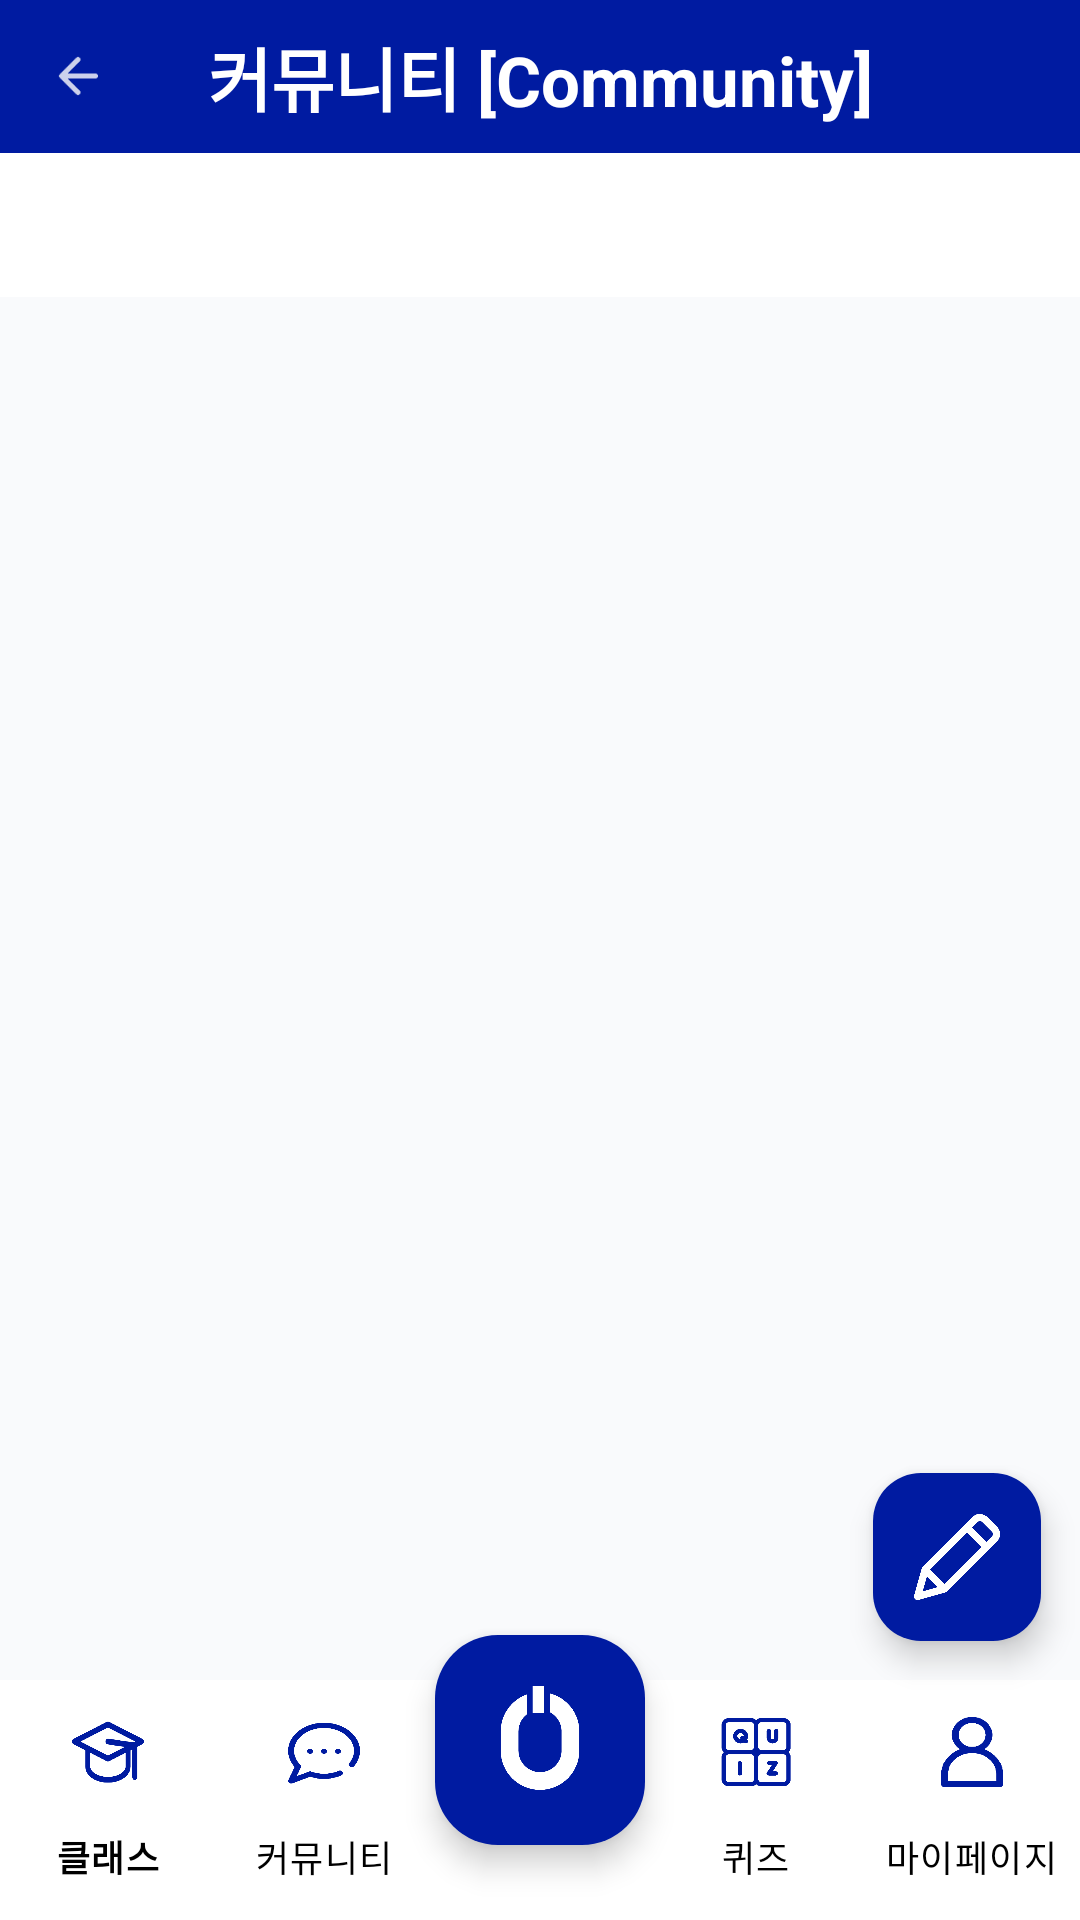

Screen size 1080px x 1920px. Icon name, then its box in pixels as (x1, y1, x2, y2):
글쓰기: (873, 1473, 1041, 1641)
